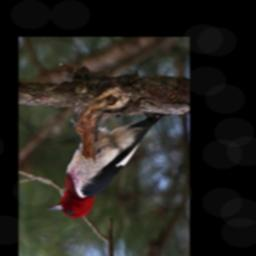Woodpecker: (43, 112, 172, 220)
